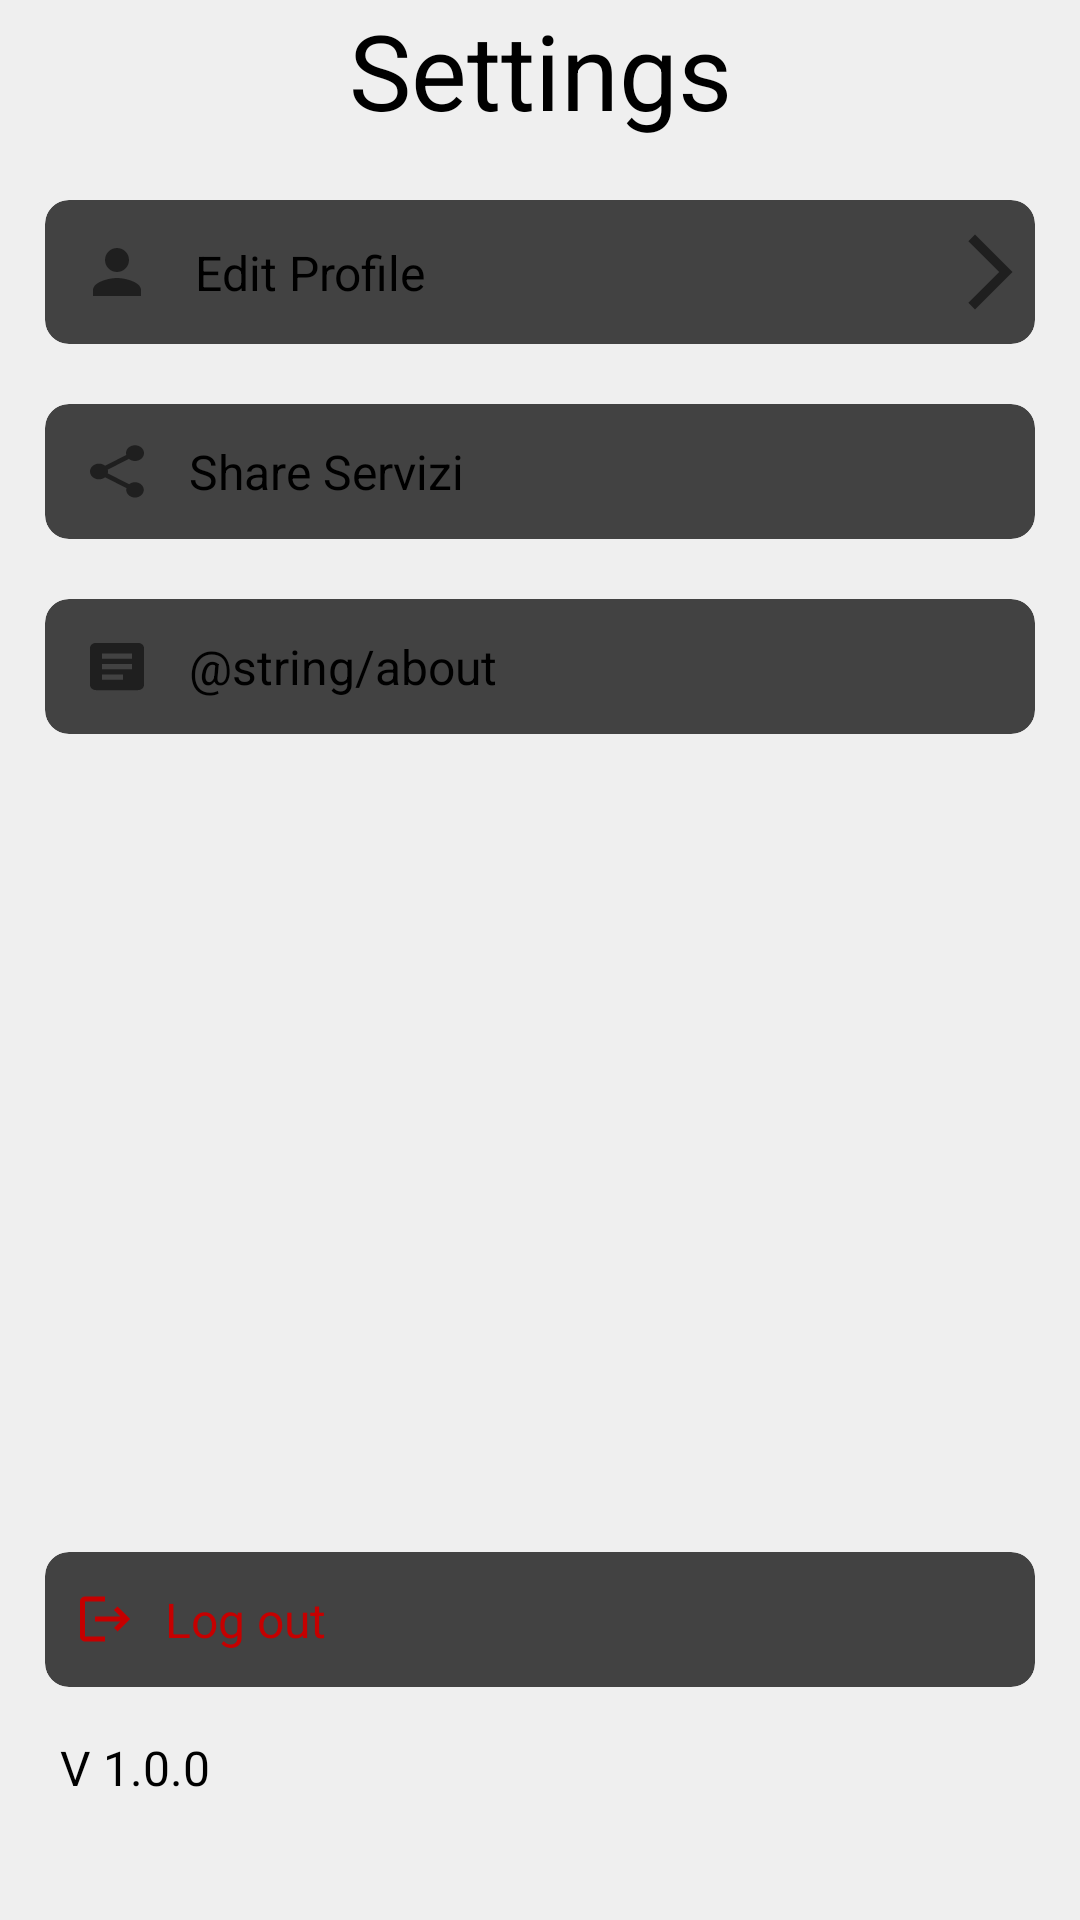

Screen size 1080 × 1920. Icon name, then its box in pixels as (x1, y1, x2, y2):
account: (93, 248, 141, 296)
arrow forward: (969, 235, 1012, 309)
article: (90, 643, 144, 690)
